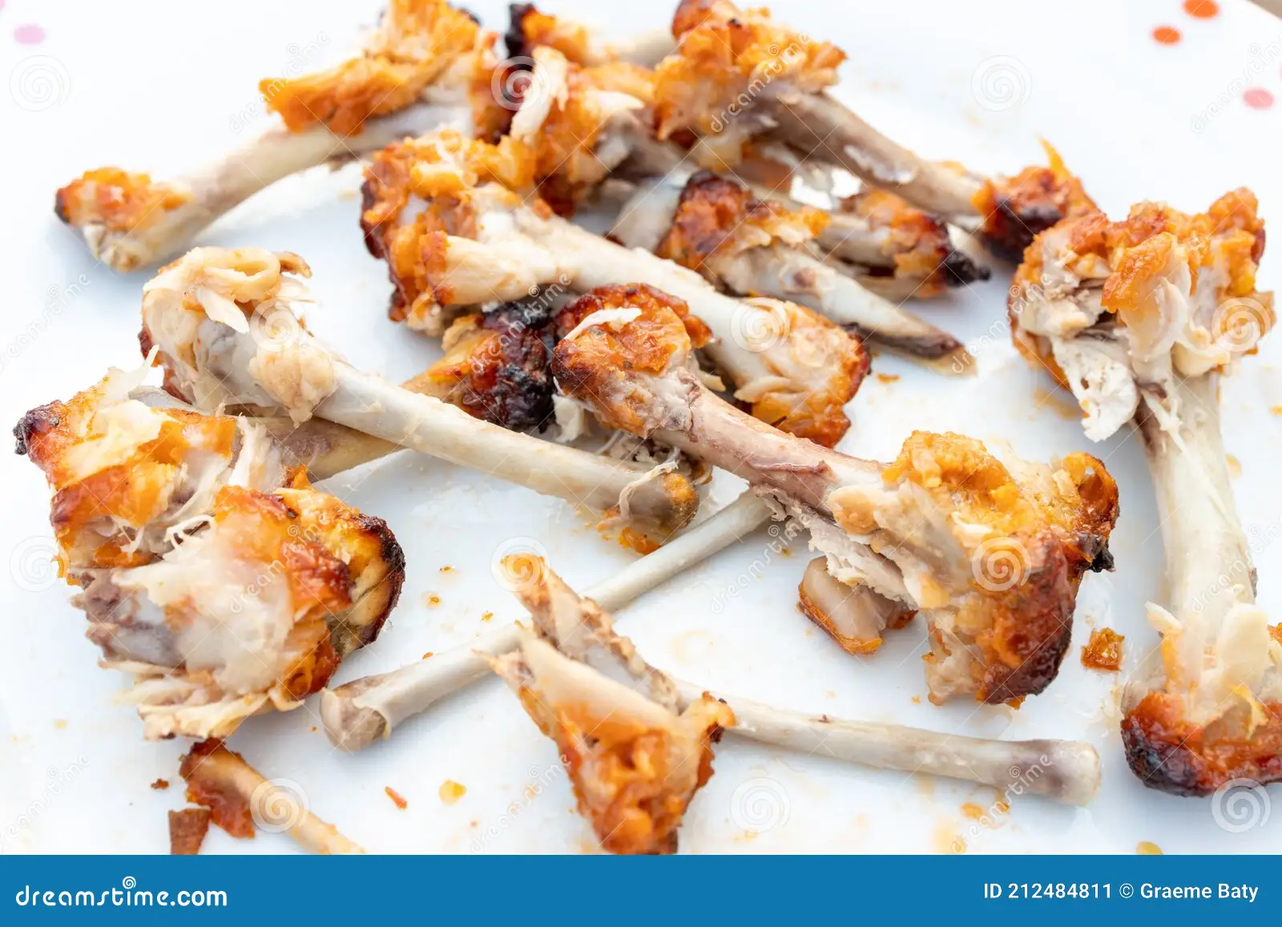food_waste: (540, 249, 1170, 507), (1021, 246, 1202, 787), (175, 229, 726, 373), (134, 506, 386, 731), (387, 158, 903, 266), (71, 210, 446, 335), (745, 0, 1099, 121), (754, 473, 829, 927), (621, 639, 1123, 698)
